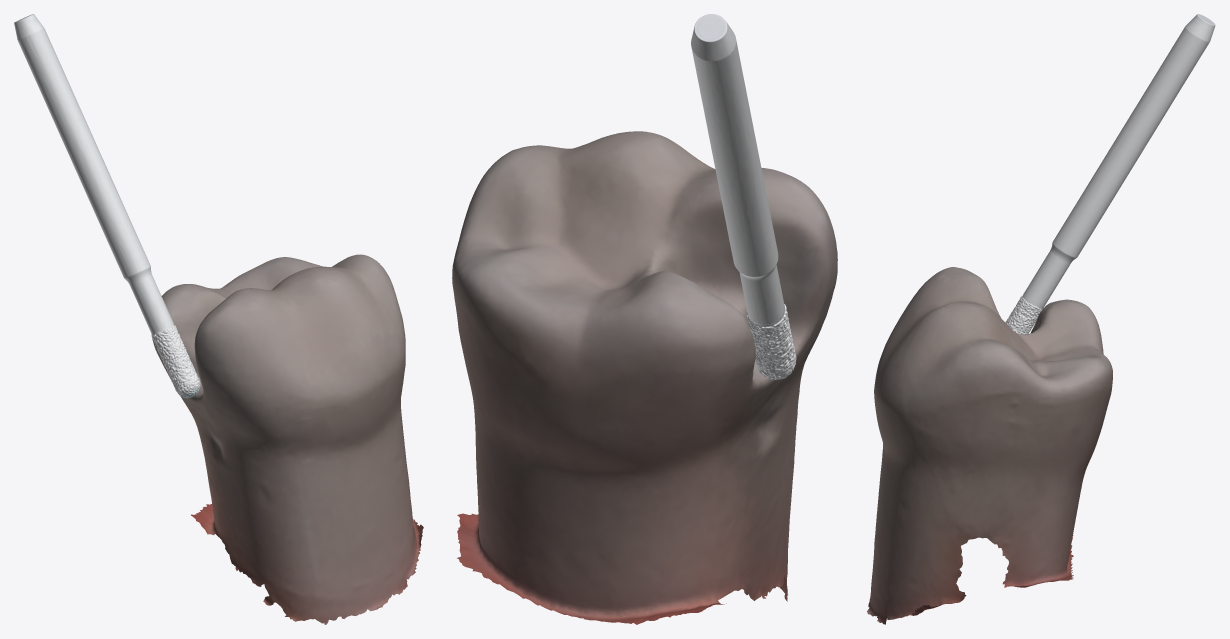
The model's file is 2133_inlay_4.fbx.
3 renders of one model, left to right at view 1: azimuth 30°, elevation 25°; view 2: azimuth 150°, elevation 25°; view 3: azimuth 270°, elevation 25°, orthographic. The views are drawn at different scales.
Visible parts, largest first — view 1: PIEZA 36 SOLA, Mesh_0, Mesh_0.001; view 2: PIEZA 36 SOLA, Mesh_0, Mesh_0.001; view 3: PIEZA 36 SOLA, Mesh_0, Mesh_0.001.
Part boxes in pixels (box(x1,y1,x2,y2)): PIEZA 36 SOLA: box(151, 254, 423, 624); Mesh_0: box(14, 14, 173, 333); Mesh_0.001: box(151, 324, 200, 398); PIEZA 36 SOLA: box(452, 131, 837, 624); Mesh_0: box(691, 14, 784, 324); Mesh_0.001: box(746, 304, 796, 380); PIEZA 36 SOLA: box(867, 267, 1112, 624); Mesh_0: box(1023, 14, 1215, 307); Mesh_0.001: box(1005, 295, 1044, 334).
Bounding box in the file's own units: 142 × 264 × 162.
Materials: 1 (1 with a texture image).
